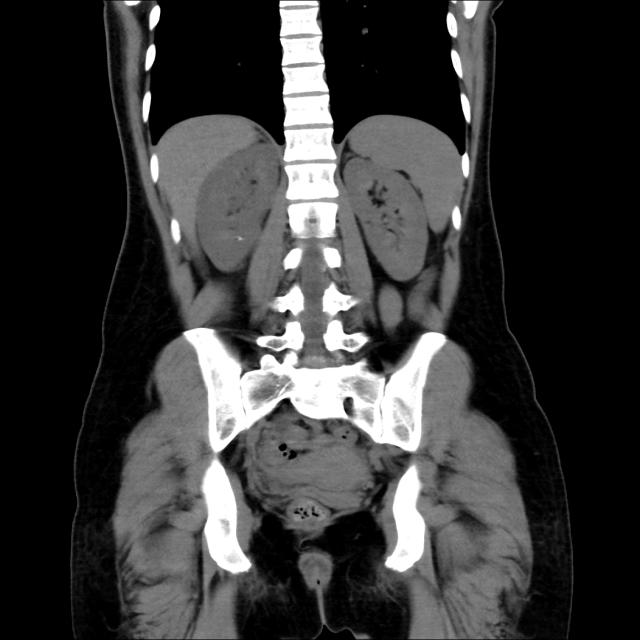kidneystone: (234, 236, 246, 241)
